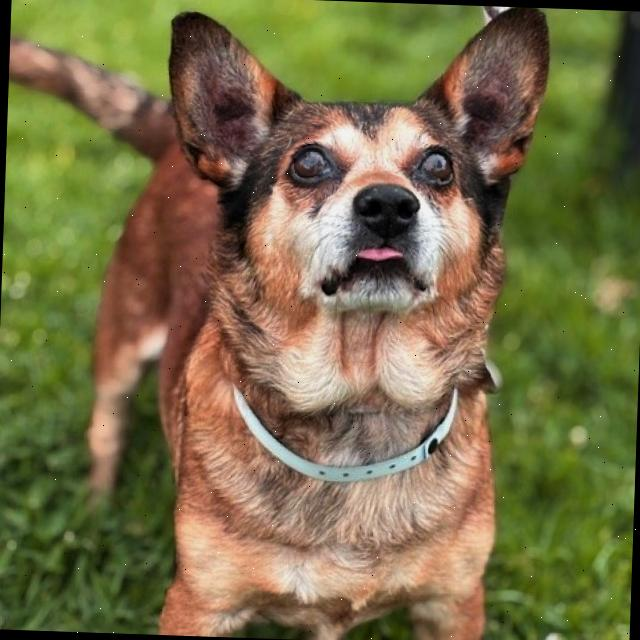corgi_dog: (139, 0, 576, 423)
